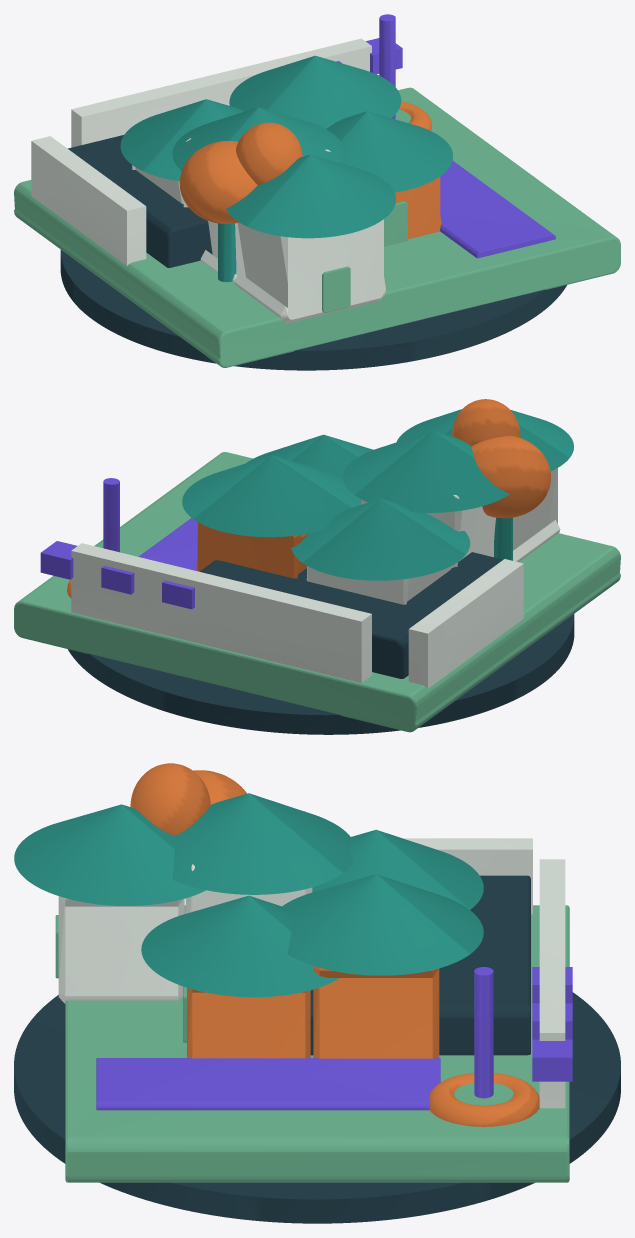
File: 0740_先秦图鉴_良渚水坝.glb
3 renders of one model, top to bottom at view 1: azimuth 30°, elevation 25°; view 2: azimuth 150°, elevation 25°; view 3: azimuth 270°, elevation 25°, orthographic. The views are drawn at different scales.
Visible parts, largest first — view 1: card_0740; view 2: card_0740; view 3: card_0740.
Boxes of the visible parts, x1,y1,x2,y2 form: card_0740: [14, 14, 620, 370]; card_0740: [14, 399, 620, 734]; card_0740: [14, 763, 620, 1223].
Bounding box in the file's own units: 2.25 × 1 × 2.14.
